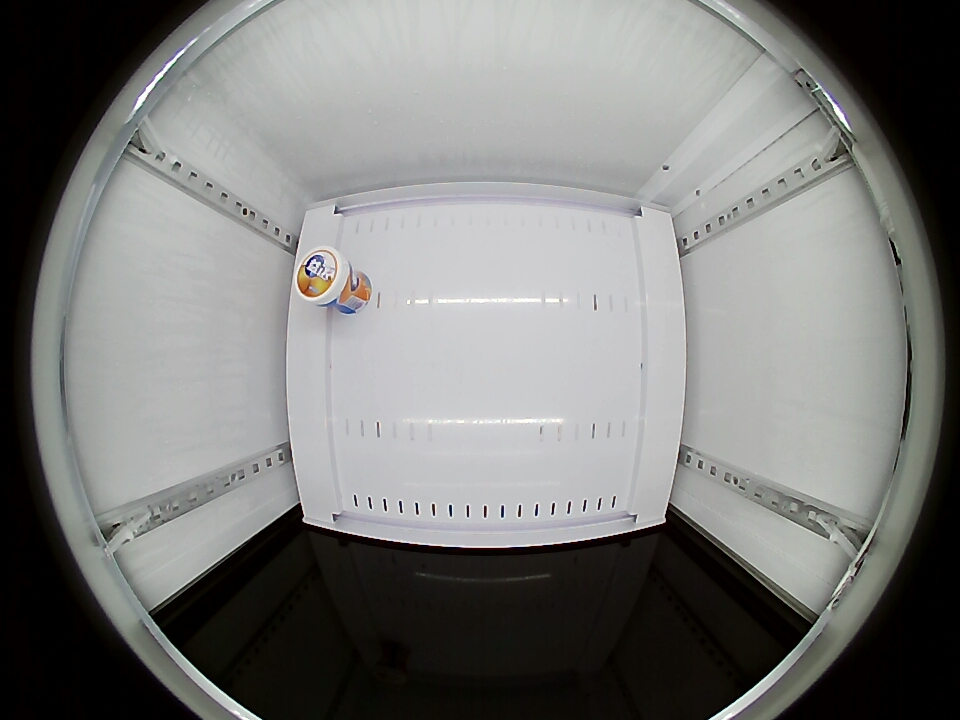yida: (294, 245, 353, 306)
